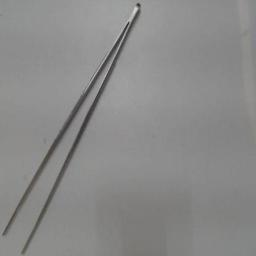DeBakey Dissector: (0, 2, 144, 254)
